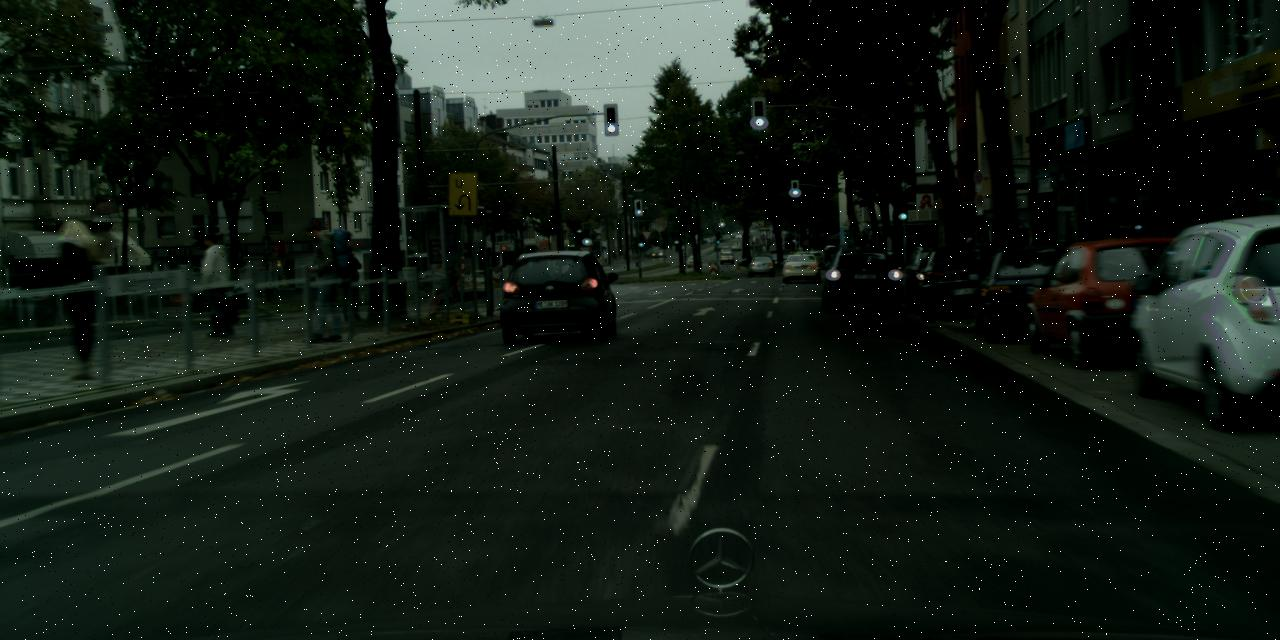ped: (48, 220, 113, 378), (296, 227, 342, 341), (194, 231, 236, 336), (331, 234, 367, 322)
